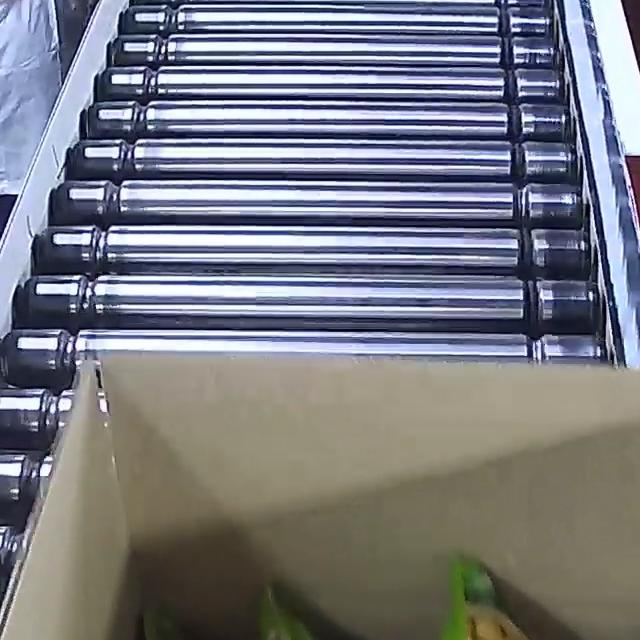yogurt: (138, 554, 640, 640)
